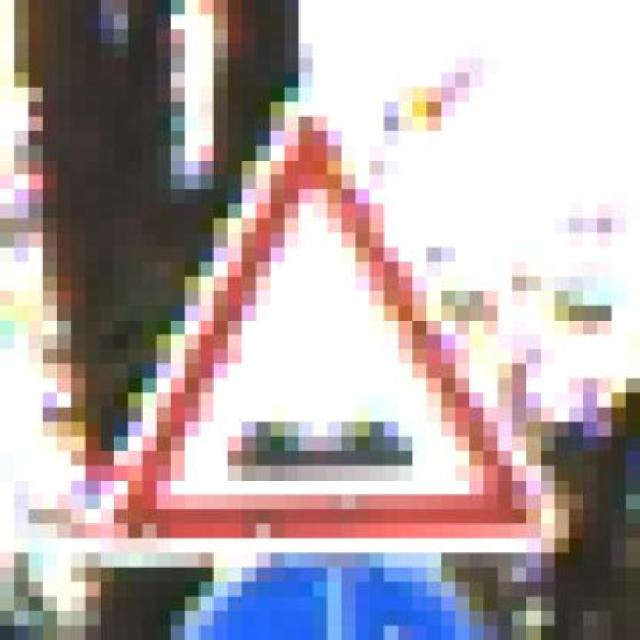Uneven Road: (85, 102, 583, 552)
